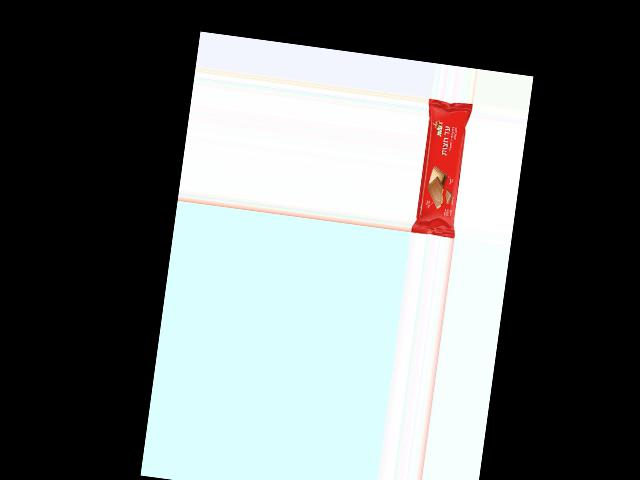chocolate: (411, 101, 473, 237)
